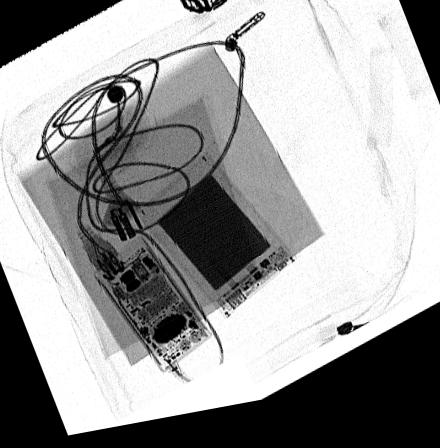Powerbank: (136, 157, 299, 328)
